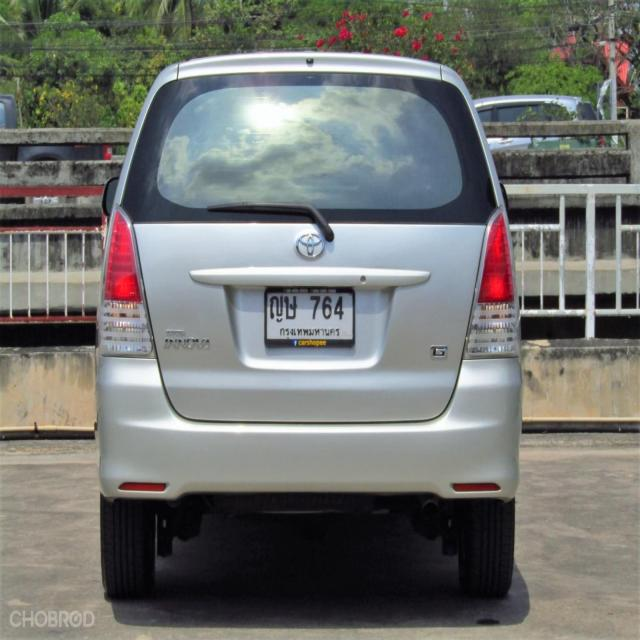license_plate: (263, 282, 357, 351)
